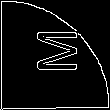M_W: (30, 32, 80, 78)
